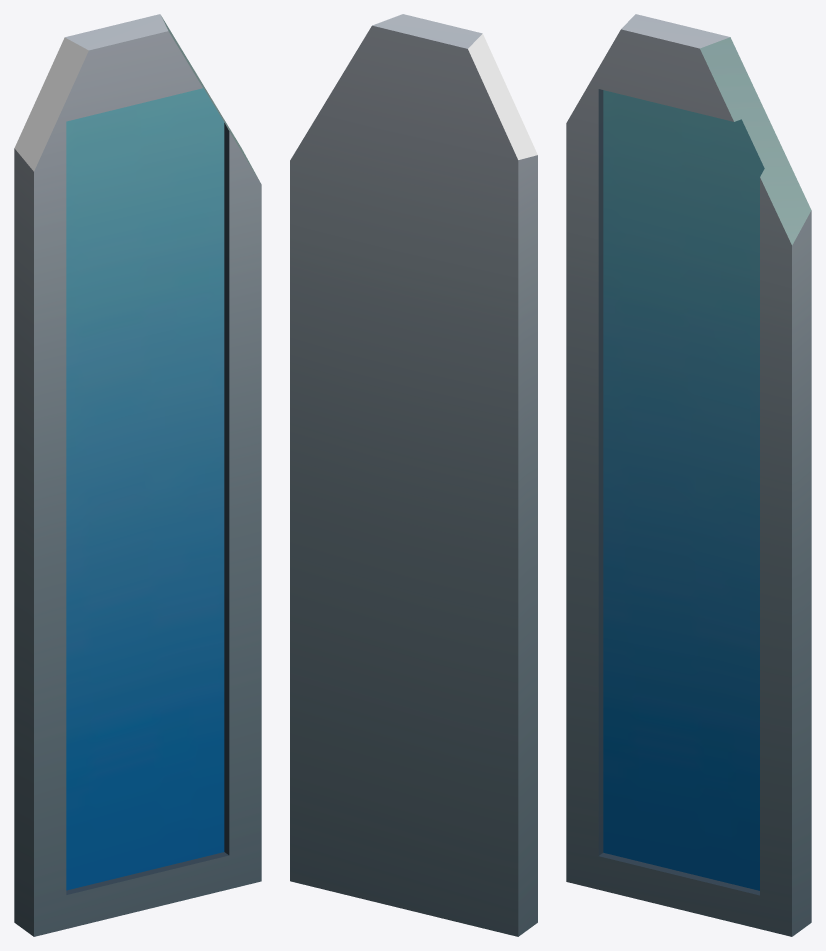
Rendered from SpacePart_Cube_030.fbx.
3 renders of one model, left to right at view 1: azimuth 30°, elevation 25°; view 2: azimuth 150°, elevation 25°; view 3: azimuth 330°, elevation 25°, orthographic.
Visible parts, largest first — view 1: Cube.030; view 2: Cube.030; view 3: Cube.030.
Part boxes in pixels (x1,y1,x2,y2): Cube.030: (14,14,261,936); Cube.030: (290,14,537,936); Cube.030: (566,14,811,936).
Size of the model in its own units: 1159 by 4248 by 173.
